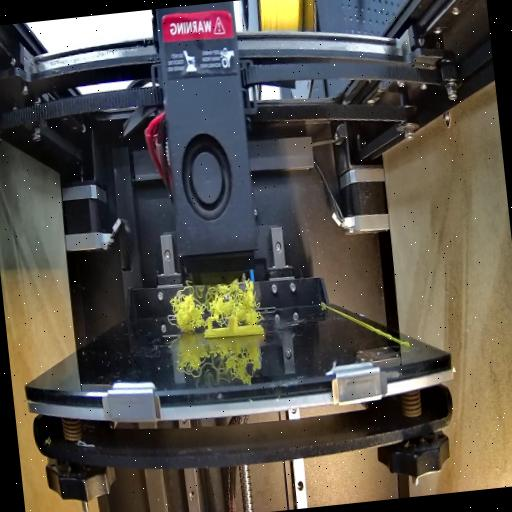spaghetti: (176, 270, 270, 332)
